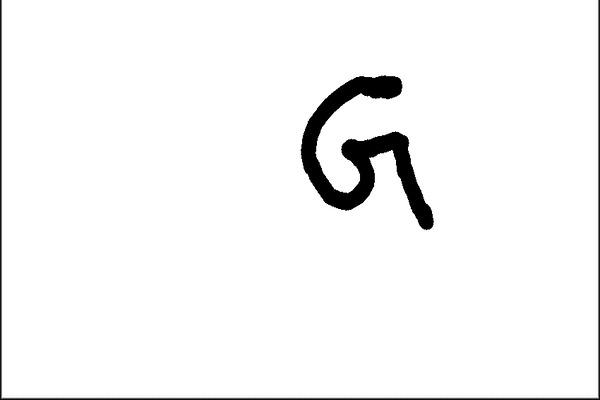G: (291, 70, 439, 239)
